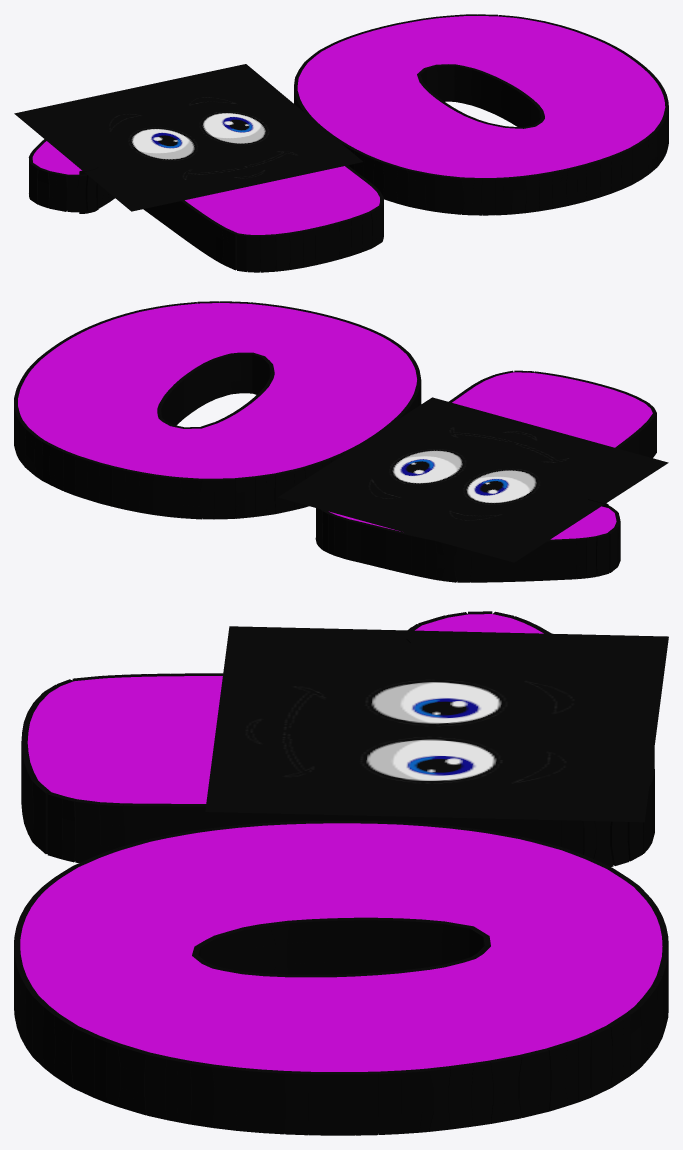
The model's file is number 10.fbx.
3 renders of one model, top to bottom at view 1: azimuth 30°, elevation 25°; view 2: azimuth 150°, elevation 25°; view 3: azimuth 270°, elevation 25°, orthographic. The views are drawn at different scales.
Visible parts, largest first — view 1: Plane.009; view 2: Plane.009; view 3: Plane.009.
Part boxes in pixels (left/top/right/bottom): Plane.009: left=14, top=14, right=668, bottom=272; Plane.009: left=14, top=301, right=668, bottom=582; Plane.009: left=14, top=611, right=668, bottom=1135.
Bounding box in the file's own units: 105 × 7.6 × 62.42.
3 materials, 1 textured.
